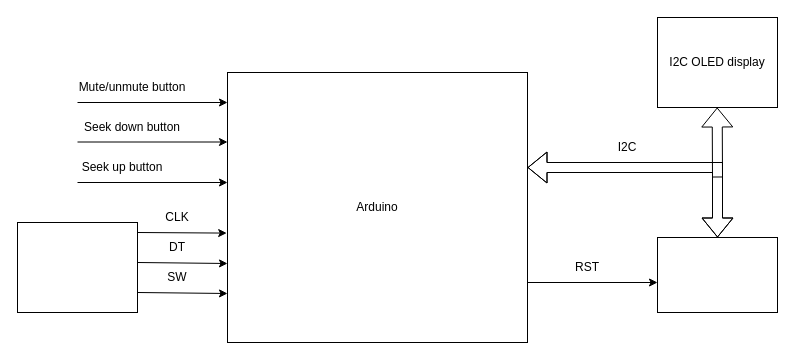
Some shapes in this 795 by 360 pixel diagram are drawn without their labels. Each missing label, with the box of its shape:
Rotary encoder: (16, 222, 138, 312)
Si4703: (656, 236, 778, 312)
